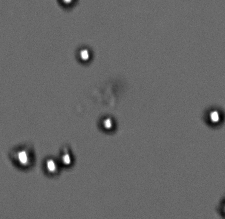Living Cell: (10, 142, 35, 171), (96, 112, 119, 135), (203, 104, 223, 128), (42, 155, 60, 178), (58, 146, 75, 170), (75, 44, 94, 65), (54, 1, 78, 10)
